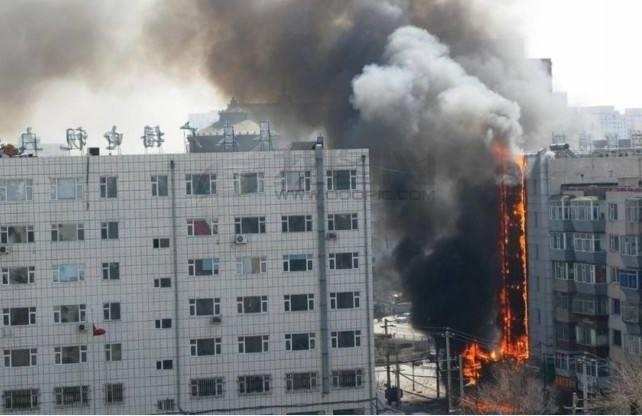fire: (483, 140, 532, 385)
